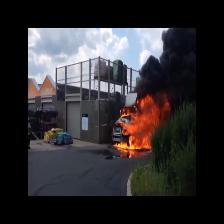fire: (115, 101, 164, 153)
smoke: (140, 28, 193, 98)
